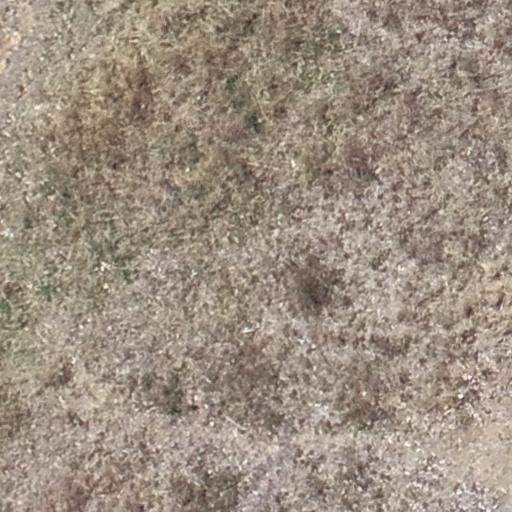stone: (170, 358, 188, 374), (458, 368, 474, 382), (98, 257, 112, 269), (242, 326, 254, 338), (256, 112, 266, 126), (184, 162, 192, 177), (102, 284, 110, 293)
